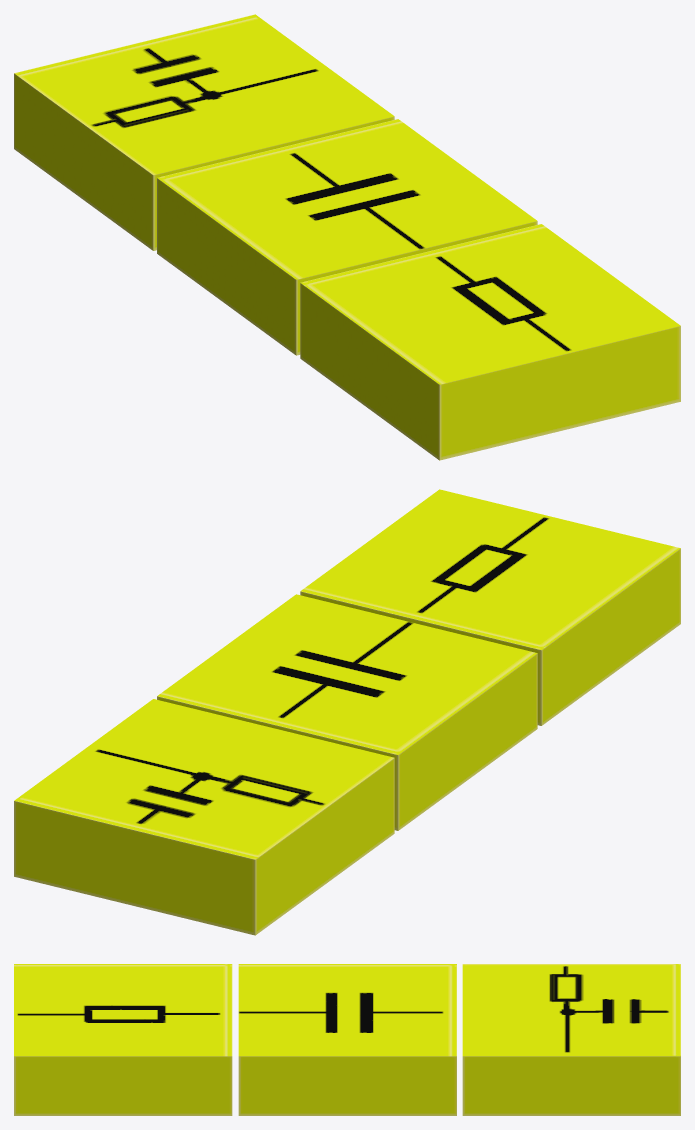
File: Electro08_8.FBX
3 renders of one model, top to bottom at view 1: azimuth 30°, elevation 25°; view 2: azimuth 150°, elevation 25°; view 3: azimuth 270°, elevation 25°, orthographic. The views are drawn at different scales.
Parts seen in each view (by area): view 1: Box003; view 2: Box003; view 3: Box003.
Part boxes in pixels (x1,y1,x2,y2): Box003: [14, 14, 680, 460]; Box003: [14, 489, 680, 935]; Box003: [14, 964, 680, 1115].
Size of the model in its own units: 19.69 by 5.91 by 60.1.
